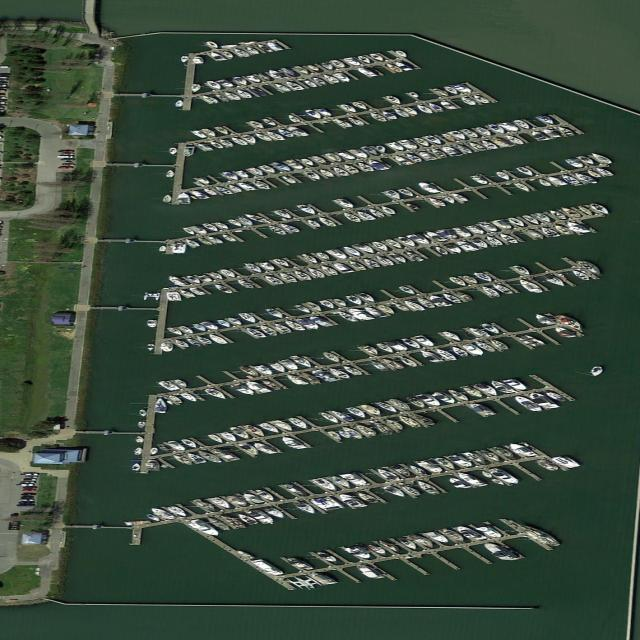ship: (509, 521, 567, 547), (478, 542, 522, 561), (184, 519, 226, 538), (575, 259, 612, 278), (525, 392, 563, 410), (554, 314, 592, 332), (250, 559, 288, 576), (245, 509, 282, 526), (452, 471, 489, 487), (308, 496, 347, 511), (510, 396, 546, 412), (410, 480, 446, 496), (487, 468, 523, 484), (451, 526, 489, 541), (351, 564, 386, 580), (335, 493, 369, 509), (378, 485, 414, 500), (306, 571, 341, 586), (283, 557, 318, 572), (343, 546, 378, 561), (202, 516, 234, 532), (194, 449, 228, 464), (505, 443, 539, 458), (408, 534, 442, 549), (513, 279, 547, 294), (285, 576, 324, 589), (276, 435, 309, 450), (218, 514, 251, 529), (289, 501, 322, 516), (339, 473, 374, 487), (207, 447, 242, 461), (373, 468, 405, 483), (439, 528, 471, 543), (377, 539, 409, 554), (444, 454, 478, 468), (344, 307, 378, 321), (337, 425, 368, 440), (415, 460, 448, 474), (473, 383, 506, 397), (467, 403, 499, 417), (424, 294, 456, 308), (474, 526, 508, 539), (550, 456, 584, 469), (387, 464, 418, 478), (431, 457, 462, 471), (460, 386, 491, 400), (501, 378, 532, 392), (532, 458, 563, 472), (387, 398, 418, 412), (234, 443, 267, 456), (281, 483, 311, 497), (327, 475, 357, 489), (394, 415, 424, 429), (343, 406, 373, 420), (242, 380, 272, 394), (416, 350, 446, 364), (559, 221, 591, 234), (462, 452, 494, 465), (429, 391, 461, 404), (485, 381, 517, 394), (538, 274, 570, 287), (308, 369, 340, 382), (225, 427, 257, 440), (369, 422, 398, 436), (460, 343, 489, 357), (311, 478, 342, 491), (415, 394, 446, 407), (443, 476, 474, 489), (373, 401, 404, 414), (243, 212, 273, 225), (148, 507, 178, 520), (192, 499, 222, 512), (475, 449, 505, 462), (249, 442, 279, 455), (424, 531, 454, 544), (364, 544, 394, 557), (316, 411, 346, 424), (531, 314, 561, 327), (351, 423, 380, 436), (395, 538, 424, 551), (400, 299, 429, 312), (229, 383, 258, 396), (202, 388, 231, 401), (242, 424, 271, 437), (270, 420, 299, 433), (285, 417, 314, 430), (209, 497, 237, 510), (253, 489, 281, 502), (404, 464, 432, 477), (262, 507, 290, 520), (359, 404, 387, 417), (325, 367, 353, 380), (257, 422, 285, 435), (331, 409, 359, 422), (236, 365, 264, 378), (357, 344, 385, 357), (490, 446, 520, 458), (384, 340, 414, 352), (517, 335, 547, 347), (573, 172, 600, 185), (405, 396, 432, 409), (446, 389, 473, 402), (411, 413, 438, 426), (234, 513, 261, 526), (258, 378, 285, 391), (432, 348, 459, 361), (587, 153, 616, 165), (354, 492, 383, 504), (334, 311, 363, 323), (360, 306, 389, 318), (298, 372, 324, 385), (320, 351, 346, 364), (486, 338, 512, 351), (414, 182, 442, 194), (294, 204, 322, 216), (406, 234, 434, 246), (422, 230, 450, 242), (315, 551, 343, 563), (295, 318, 323, 330), (290, 357, 318, 369), (398, 338, 426, 350), (466, 326, 494, 338), (478, 323, 506, 335), (471, 341, 499, 353), (557, 174, 584, 186), (364, 159, 391, 171), (164, 275, 191, 287), (165, 506, 192, 518), (240, 492, 267, 504), (155, 380, 182, 392), (284, 374, 311, 386), (365, 360, 392, 372), (380, 358, 407, 370), (373, 343, 400, 355), (536, 226, 562, 238), (330, 262, 356, 274), (543, 391, 569, 403), (382, 419, 408, 431), (413, 297, 439, 309), (339, 364, 365, 376), (225, 496, 253, 507), (308, 316, 336, 327), (410, 336, 438, 347), (588, 203, 613, 215), (290, 269, 315, 281), (184, 452, 209, 464), (205, 333, 230, 345), (448, 346, 473, 358), (489, 284, 516, 295), (550, 327, 577, 338), (265, 225, 291, 236), (467, 238, 493, 249), (402, 251, 428, 262), (209, 283, 235, 294), (394, 236, 420, 247), (477, 222, 503, 233), (439, 146, 465, 157), (282, 80, 308, 91), (439, 293, 465, 304), (263, 308, 289, 319), (568, 270, 594, 281), (278, 360, 304, 371), (440, 331, 466, 342), (395, 357, 421, 368), (316, 216, 341, 227), (550, 224, 575, 235), (523, 229, 548, 240), (559, 207, 584, 218), (437, 229, 462, 240), (450, 227, 475, 238), (171, 454, 196, 465), (347, 148, 372, 159), (485, 124, 510, 135), (262, 130, 287, 141), (511, 265, 536, 276), (235, 549, 260, 560), (242, 327, 267, 338), (257, 325, 282, 336), (283, 320, 308, 331), (472, 272, 497, 283), (165, 441, 190, 452), (178, 438, 203, 449), (355, 67, 382, 77), (374, 305, 401, 315), (563, 158, 587, 169), (340, 212, 364, 223), (497, 233, 521, 244), (443, 243, 467, 254), (373, 255, 397, 266), (276, 272, 300, 283), (341, 246, 365, 257), (247, 86, 271, 97), (536, 115, 560, 126), (479, 286, 503, 297), (447, 276, 471, 287), (206, 434, 230, 445), (333, 199, 359, 209), (454, 241, 480, 251), (354, 244, 380, 254), (490, 220, 516, 230), (450, 84, 476, 94), (399, 486, 425, 496), (365, 208, 388, 219), (354, 210, 377, 221), (574, 205, 597, 216), (346, 260, 369, 271), (318, 265, 341, 276), (262, 274, 285, 285), (384, 239, 407, 250), (303, 109, 326, 120), (345, 116, 368, 127), (238, 313, 261, 324), (253, 365, 276, 376), (510, 182, 535, 192), (271, 210, 296, 220), (327, 249, 352, 259), (369, 241, 394, 251), (202, 80, 227, 90), (397, 140, 422, 150), (489, 137, 514, 147), (234, 279, 256, 290), (345, 295, 367, 306), (280, 223, 304, 233), (250, 180, 274, 190), (243, 263, 267, 273), (465, 225, 489, 235), (505, 217, 529, 227), (220, 91, 244, 101), (265, 70, 289, 80), (359, 146, 383, 156), (386, 142, 410, 152), (499, 122, 523, 132), (528, 131, 552, 141), (271, 162, 295, 172), (286, 127, 310, 137), (227, 136, 251, 146), (271, 323, 295, 333), (199, 321, 223, 331), (356, 293, 380, 303), (429, 148, 450, 159), (545, 176, 568, 186), (426, 197, 449, 207), (383, 190, 406, 200), (354, 162, 377, 172), (328, 166, 351, 176), (546, 210, 569, 220), (360, 258, 383, 268), (305, 268, 328, 278), (533, 213, 556, 223), (521, 215, 544, 225), (299, 254, 322, 264), (415, 151, 438, 161), (383, 63, 406, 73), (392, 61, 415, 71), (383, 95, 406, 105), (452, 144, 475, 154), (323, 153, 346, 163), (423, 135, 446, 145), (503, 135, 526, 145), (413, 104, 436, 114), (366, 112, 389, 122), (252, 132, 275, 142), (220, 171, 243, 181), (304, 302, 327, 312), (179, 393, 202, 403), (220, 432, 243, 442), (377, 205, 399, 215), (403, 153, 425, 163), (392, 156, 414, 166), (483, 236, 505, 246), (233, 89, 255, 99), (437, 100, 459, 110), (285, 160, 307, 170), (437, 133, 459, 143), (512, 120, 534, 130), (555, 126, 577, 136), (478, 140, 500, 150), (275, 128, 297, 138), (153, 443, 175, 453), (454, 291, 476, 301), (397, 286, 419, 296), (217, 269, 241, 278), (430, 88, 454, 97), (366, 53, 390, 62), (459, 129, 483, 138), (465, 142, 489, 151), (470, 175, 491, 185), (493, 171, 514, 181), (304, 171, 325, 181), (190, 190, 211, 200), (226, 218, 247, 228), (425, 102, 446, 112), (391, 108, 412, 118), (378, 110, 399, 120), (146, 457, 161, 471), (325, 431, 346, 441), (269, 363, 290, 373), (514, 167, 537, 176), (271, 83, 294, 92), (457, 97, 480, 106), (471, 95, 494, 104), (448, 131, 471, 140), (258, 165, 281, 174), (239, 135, 262, 144), (142, 513, 165, 522), (183, 338, 206, 347), (155, 397, 167, 414), (200, 128, 220, 138), (195, 335, 215, 345), (576, 156, 598, 165), (439, 195, 461, 204), (213, 186, 235, 195), (189, 226, 211, 235), (183, 275, 205, 284), (272, 258, 294, 267), (314, 252, 336, 261), (332, 73, 354, 82), (188, 130, 210, 139), (231, 48, 253, 57), (329, 60, 351, 69), (231, 77, 253, 86), (336, 151, 358, 160), (412, 138, 434, 147), (540, 129, 562, 138), (246, 167, 268, 176), (318, 300, 340, 309), (173, 241, 188, 254), (176, 192, 192, 204), (167, 394, 186, 404), (594, 167, 615, 176), (341, 164, 362, 173), (201, 223, 222, 232), (195, 237, 216, 246), (431, 246, 452, 255), (390, 254, 411, 263), (311, 77, 332, 86), (248, 120, 269, 129), (338, 104, 359, 113), (441, 86, 462, 95), (255, 44, 276, 53), (208, 52, 229, 61), (280, 68, 301, 77), (255, 73, 276, 82), (218, 79, 239, 88), (473, 127, 494, 136), (334, 119, 355, 128), (187, 287, 208, 296), (334, 430, 355, 439), (141, 292, 162, 301), (392, 303, 413, 312), (165, 327, 186, 336), (583, 169, 603, 178), (535, 178, 555, 187), (451, 193, 471, 202), (279, 175, 299, 184), (237, 182, 257, 191), (225, 184, 245, 193), (219, 233, 239, 242), (258, 262, 278, 271), (322, 74, 342, 83), (213, 126, 233, 135), (284, 114, 304, 123), (200, 95, 220, 104), (402, 107, 422, 116), (217, 139, 237, 148), (178, 290, 198, 299), (172, 340, 192, 349), (461, 275, 481, 284), (294, 305, 314, 314), (226, 317, 246, 326), (265, 42, 285, 51), (349, 102, 371, 110), (342, 58, 364, 66), (304, 219, 323, 228), (317, 169, 336, 178), (238, 217, 257, 226), (316, 108, 335, 117), (234, 170, 253, 179), (173, 379, 192, 388), (166, 291, 183, 301), (397, 189, 418, 197), (355, 56, 376, 64), (317, 62, 338, 70), (160, 341, 174, 353), (190, 324, 211, 332), (197, 143, 215, 152), (403, 202, 423, 210), (243, 47, 263, 55), (305, 64, 325, 72), (293, 66, 313, 74), (244, 75, 264, 83), (206, 141, 226, 149), (590, 366, 604, 377), (206, 236, 225, 244), (183, 239, 202, 247), (207, 272, 226, 280), (301, 80, 320, 88), (311, 156, 330, 164), (332, 299, 351, 307), (215, 320, 234, 328), (202, 188, 220, 196), (214, 222, 232, 230), (373, 145, 391, 153), (179, 326, 197, 334), (184, 144, 195, 157), (180, 227, 197, 235), (393, 50, 410, 58), (204, 41, 221, 49), (260, 119, 279, 126), (299, 159, 318, 166), (489, 479, 508, 486), (479, 470, 495, 478), (221, 51, 239, 58), (236, 40, 260, 45), (133, 436, 146, 445), (220, 44, 240, 49), (161, 195, 173, 203), (197, 178, 213, 184), (146, 320, 158, 328), (407, 92, 422, 98), (192, 84, 202, 93), (164, 170, 175, 178), (136, 421, 147, 429), (192, 57, 204, 64), (179, 56, 190, 63), (130, 464, 141, 471), (132, 448, 143, 455), (139, 409, 148, 417), (146, 344, 156, 351), (169, 148, 178, 155), (175, 100, 184, 107), (151, 448, 160, 455), (159, 246, 167, 251)
small-vehicle: (57, 156, 76, 159), (21, 473, 40, 476), (16, 504, 35, 507), (22, 486, 38, 489), (59, 150, 74, 153), (21, 481, 36, 484), (20, 499, 35, 502), (62, 163, 76, 166), (59, 166, 73, 169), (22, 489, 36, 492), (22, 493, 36, 496), (21, 496, 35, 499), (18, 484, 35, 486), (18, 502, 35, 504), (23, 479, 39, 481), (61, 153, 75, 155), (25, 476, 39, 478), (62, 159, 75, 161)
